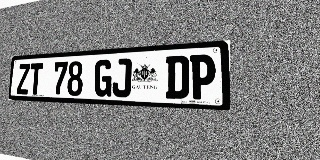7: (52, 62, 68, 96)
8: (67, 61, 84, 96)
D: (165, 55, 189, 99)
G: (94, 59, 113, 97)
J: (112, 58, 132, 97)
P: (190, 54, 216, 100)
T: (29, 63, 43, 95)
Z: (16, 63, 30, 94)
